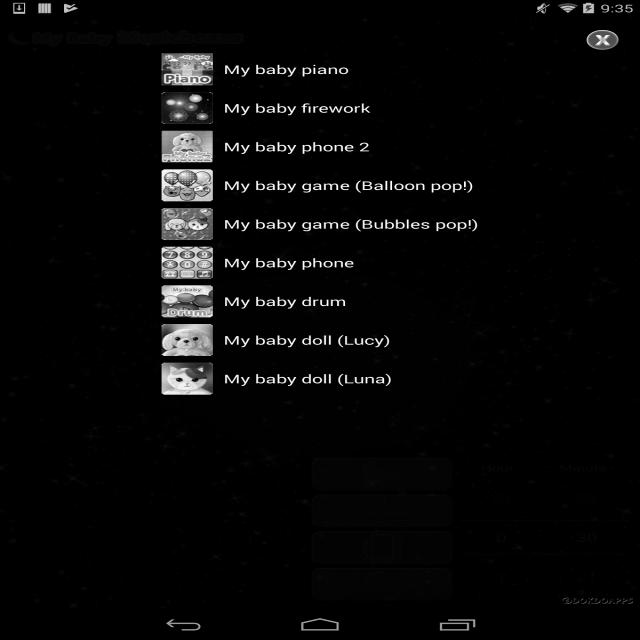Button: (459, 478, 544, 522), (459, 554, 544, 598), (544, 478, 629, 522), (544, 554, 629, 598)
EditText: (459, 522, 544, 554), (544, 522, 629, 554)
ImageButton: (312, 495, 454, 528), (586, 30, 618, 50)
ImageView: (6, 30, 244, 47), (162, 54, 212, 86), (162, 92, 212, 124), (162, 130, 212, 162), (162, 170, 212, 202), (162, 208, 212, 240), (162, 246, 212, 278), (162, 286, 212, 318), (162, 324, 212, 356), (162, 362, 212, 394), (560, 596, 635, 604)
TextView: (224, 216, 478, 232), (224, 177, 474, 193), (224, 370, 392, 387), (223, 332, 391, 348), (223, 138, 369, 155), (224, 100, 370, 116), (224, 254, 354, 271), (223, 61, 349, 77), (224, 293, 346, 309), (537, 461, 629, 474), (459, 461, 537, 474)
